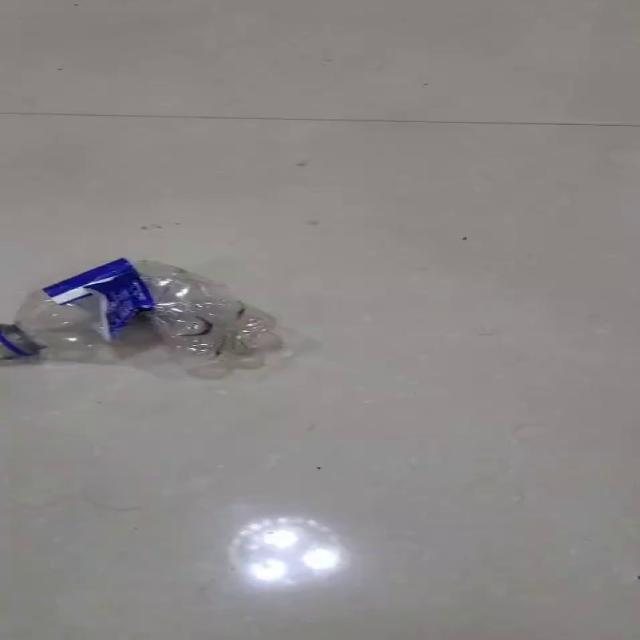plastic: (6, 257, 286, 374)
